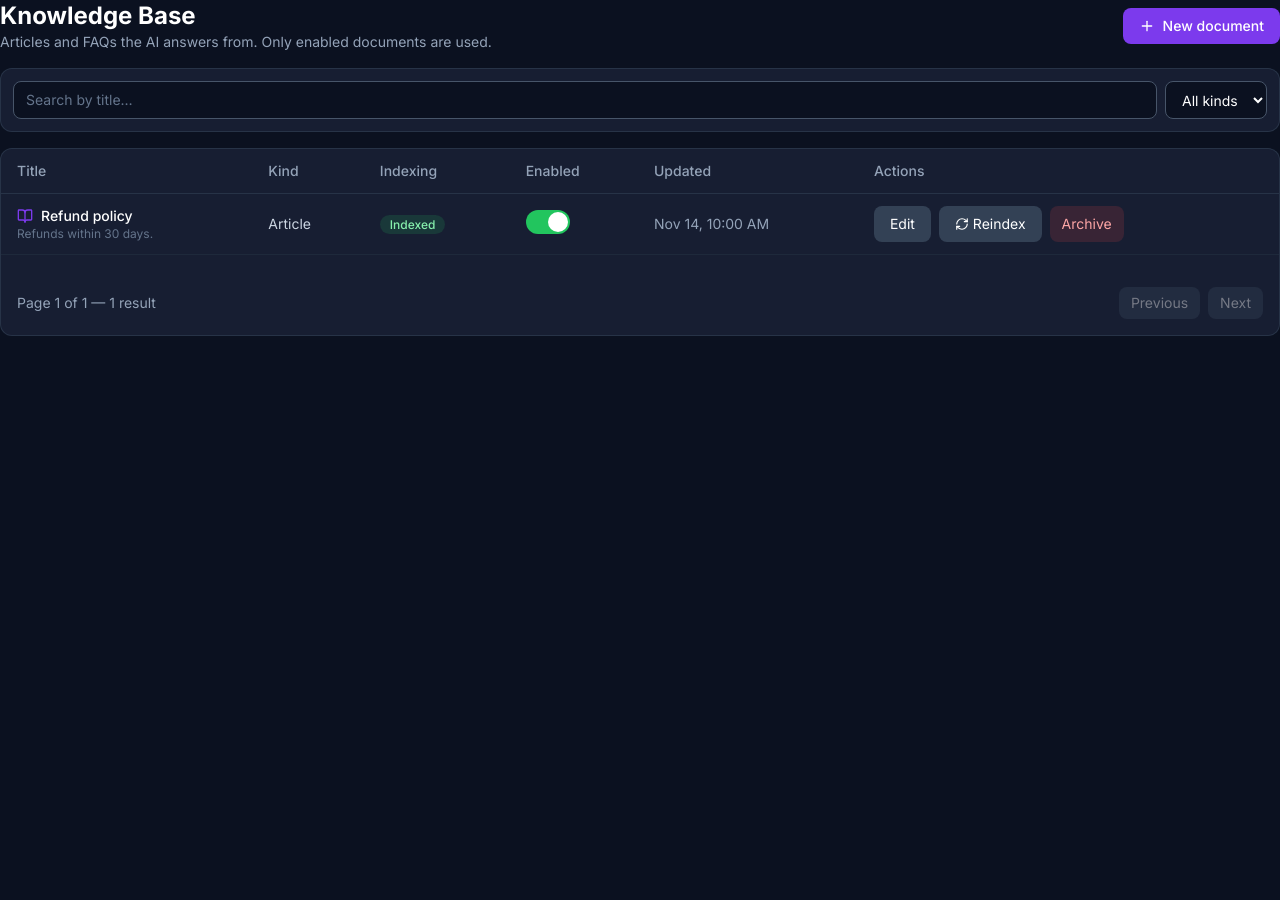
Test: Phase 3 live-shape regression › KB title click opens the edit modal
The width and height of the screenshot is (1280, 900).
Click the button with aria-label "Edit Refund policy" at (75, 216), box [17,206,133,226]
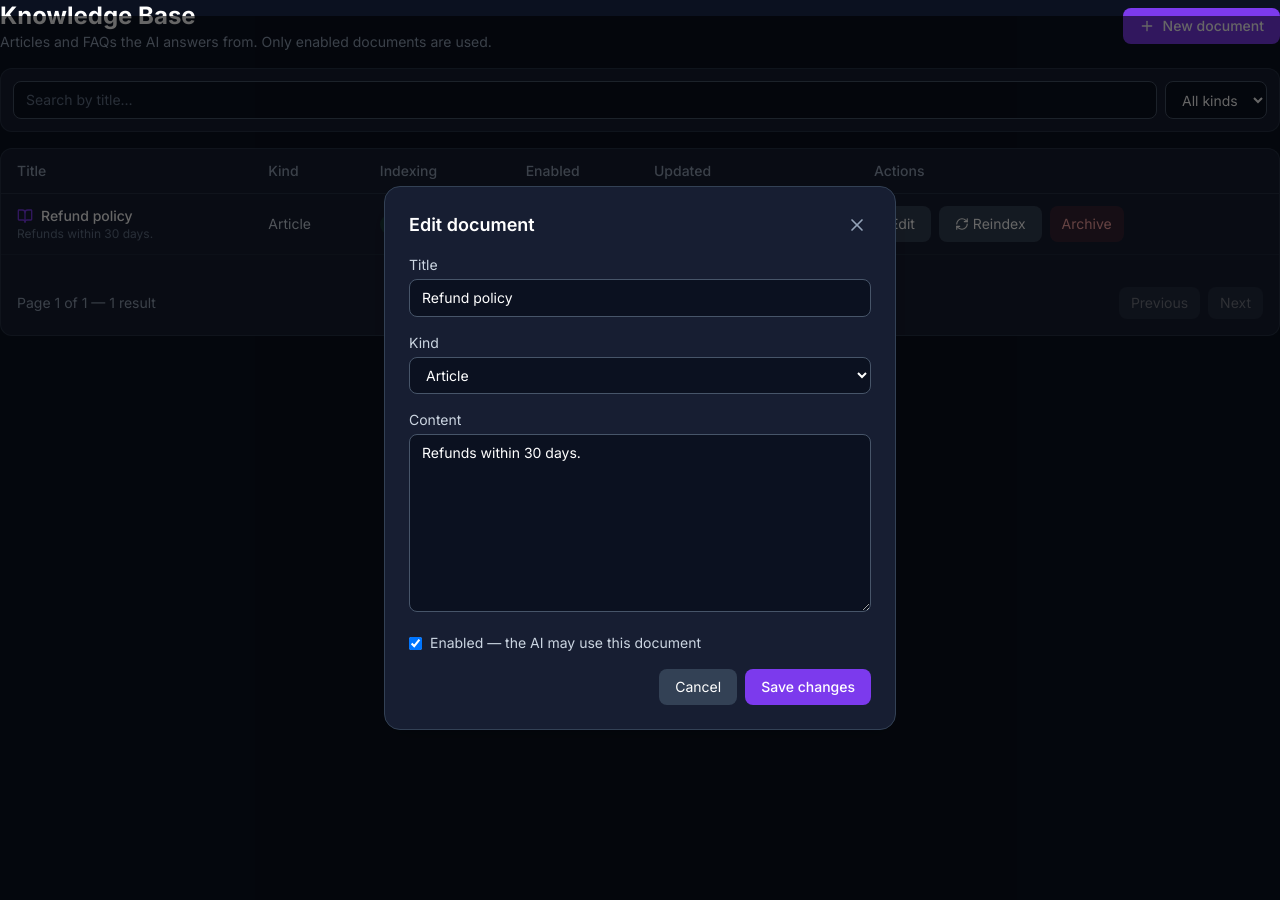
Expected: the heading "Edit document" is shown, [409,211,535,239]
